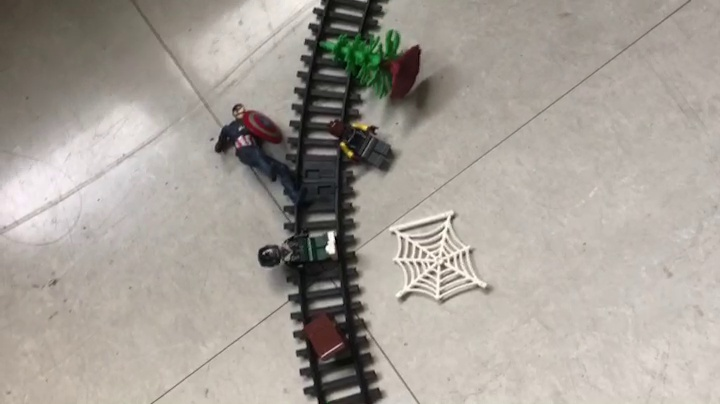box: (303, 312, 351, 360)
people: (216, 103, 304, 198), (322, 117, 396, 168), (255, 231, 339, 275)
tree: (319, 29, 426, 105)
web: (389, 211, 492, 299)
